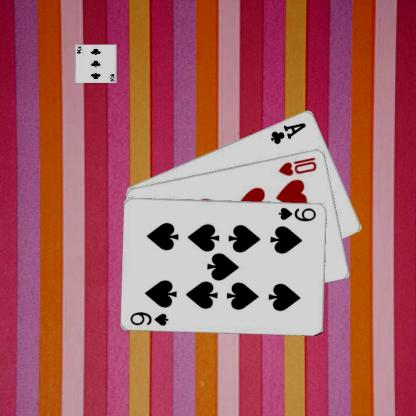10H: (276, 154, 318, 177)
9S: (276, 204, 318, 223), (128, 309, 169, 327)
AC: (268, 120, 308, 145)
